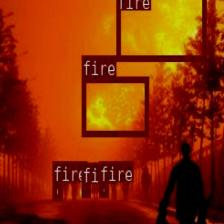fire: (115, 0, 206, 60), (81, 75, 148, 136), (51, 182, 61, 198), (81, 182, 90, 197), (99, 181, 108, 196)
